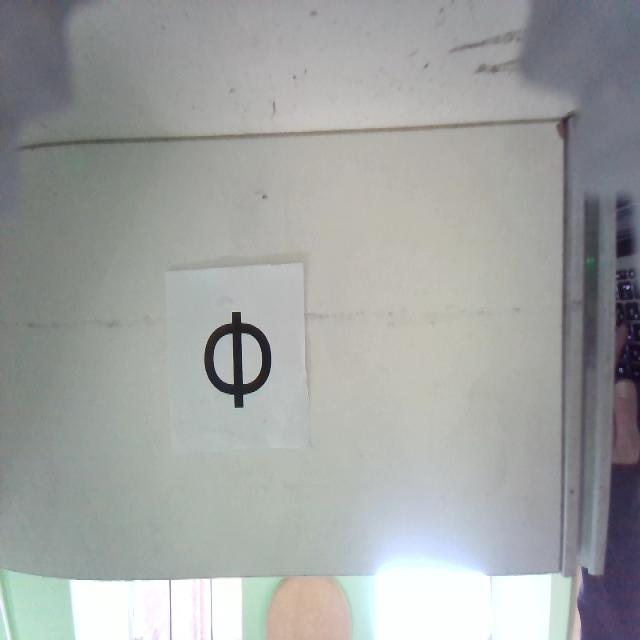F: (202, 311, 271, 410)
